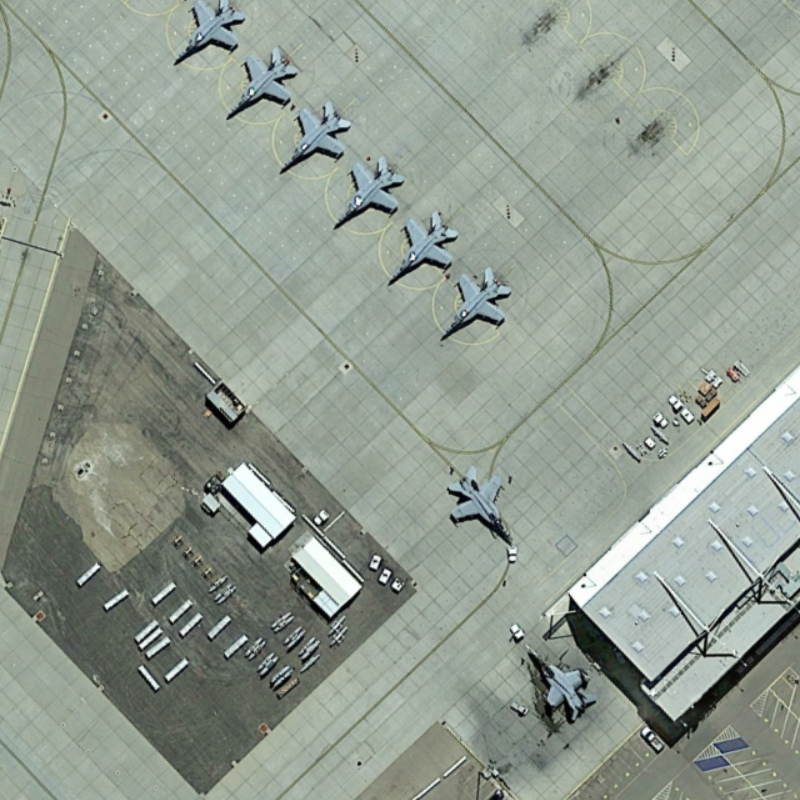A16: (517, 643, 602, 726), (434, 261, 516, 346), (384, 206, 463, 291), (223, 41, 305, 122), (271, 97, 354, 177), (443, 461, 518, 548), (331, 152, 408, 230), (169, 1, 244, 67)
